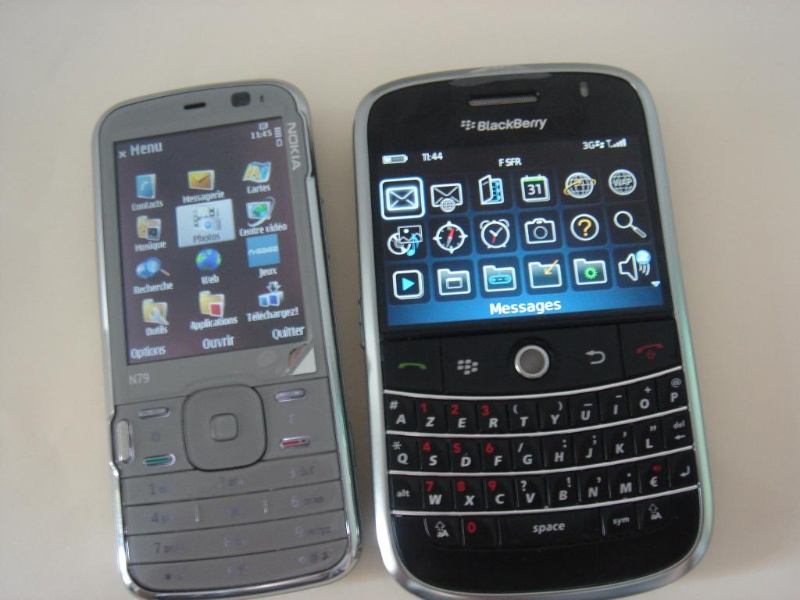cellphone: (356, 64, 713, 598), (86, 81, 354, 597)
